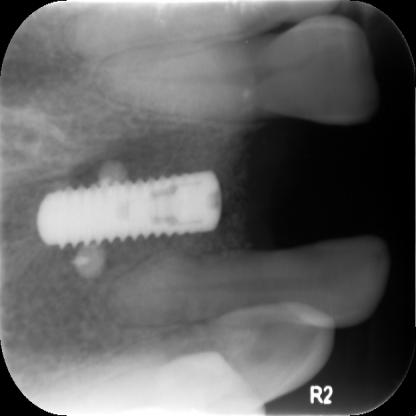ITI: (38, 166, 225, 258)
